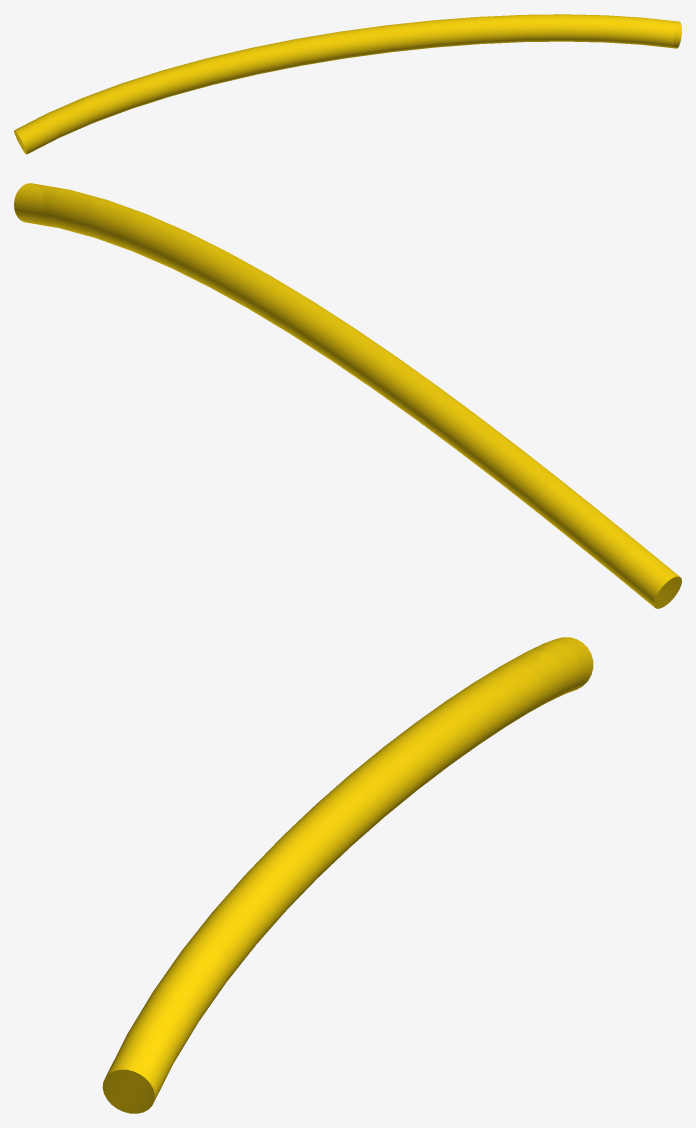
Rendered from Event_421115418_track_99.fbx.
3 views of the same model, one above another, from view 1: azimuth 30°, elevation 25°; view 2: azimuth 150°, elevation 25°; view 3: azimuth 270°, elevation 25° (orthographic). The views are drawn at different scales.
Visible parts, largest first — view 1: Model; view 2: Model; view 3: Model.
Boxes of the visible parts, x1,y1,x2,y2 form: Model: (14, 14, 681, 154); Model: (14, 183, 681, 608); Model: (102, 637, 593, 1113).
Bounding box in the file's own units: 0.9386 × 0.1567 × 0.3579.
